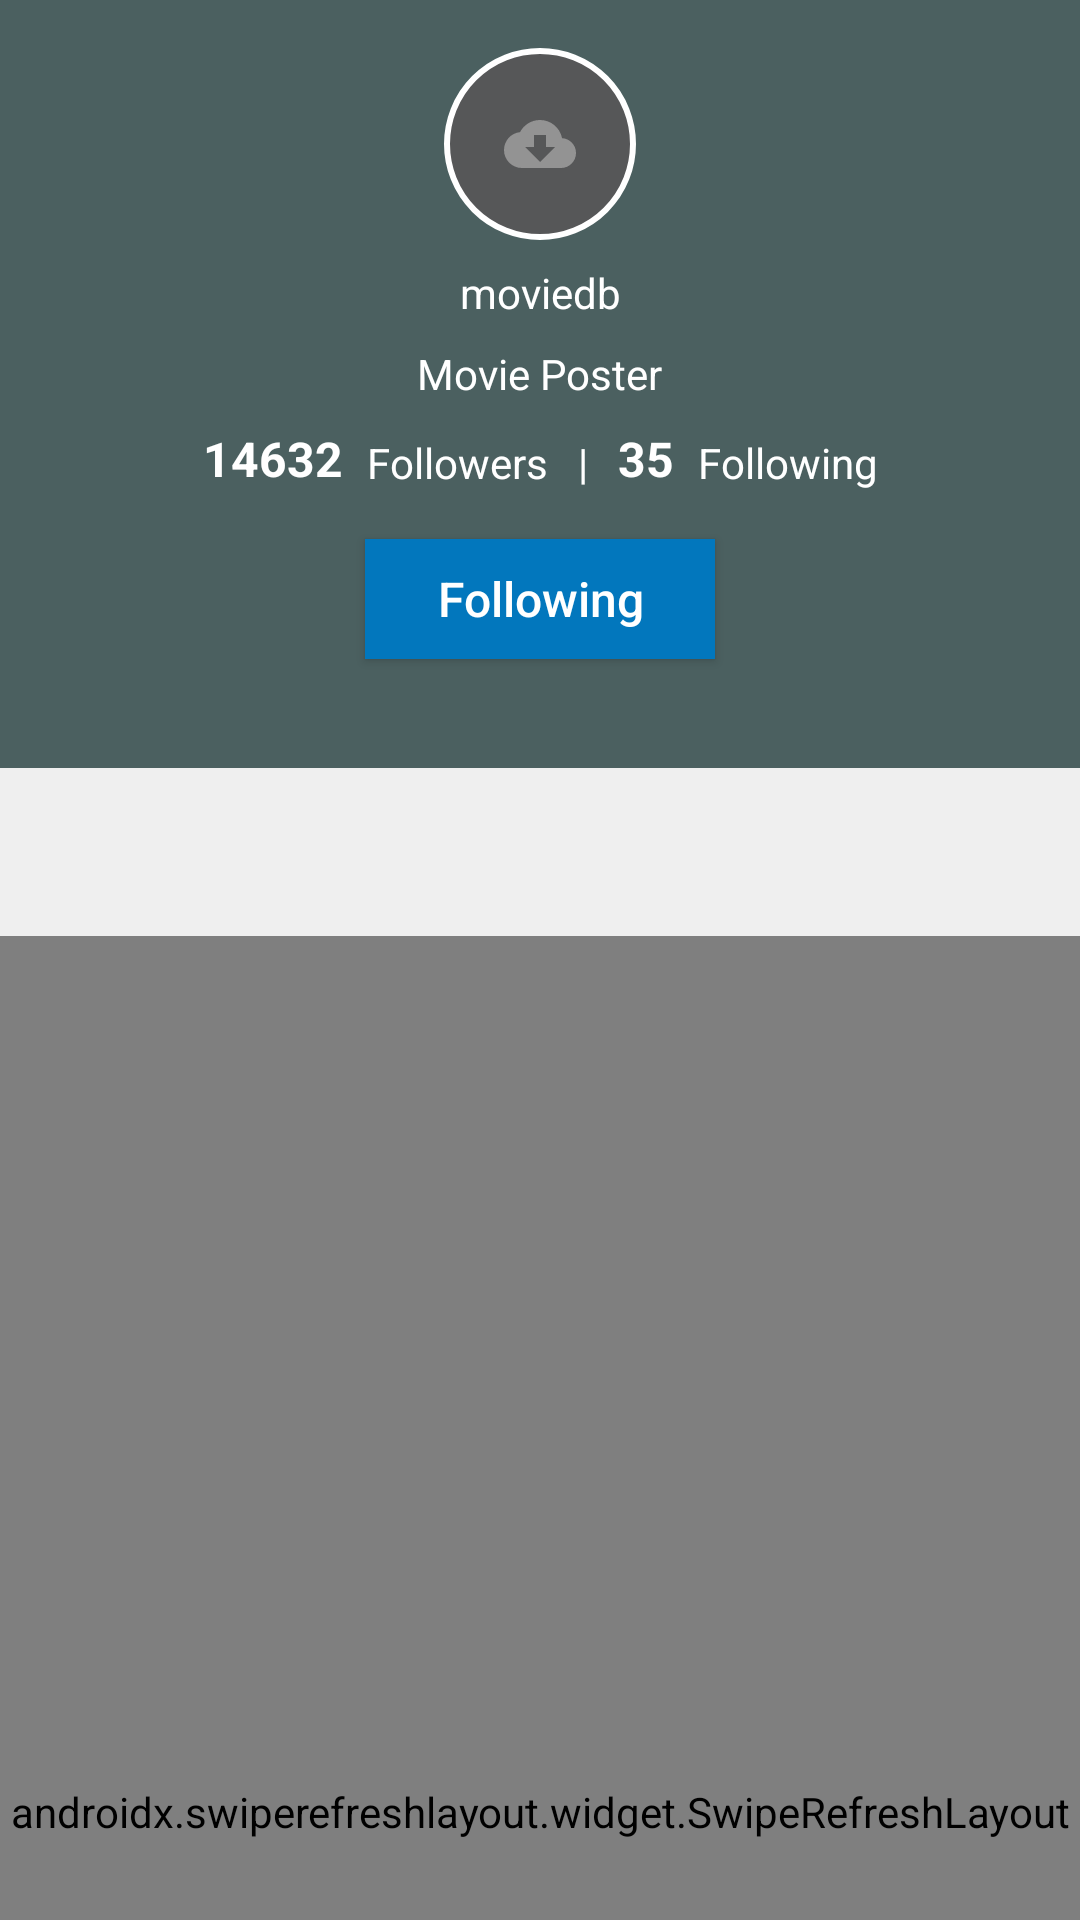

Icons on this 1080px x 1920px Android screen, each with its box as (x1, y1, x2, y2):
cloud download: (444, 48, 636, 240)
